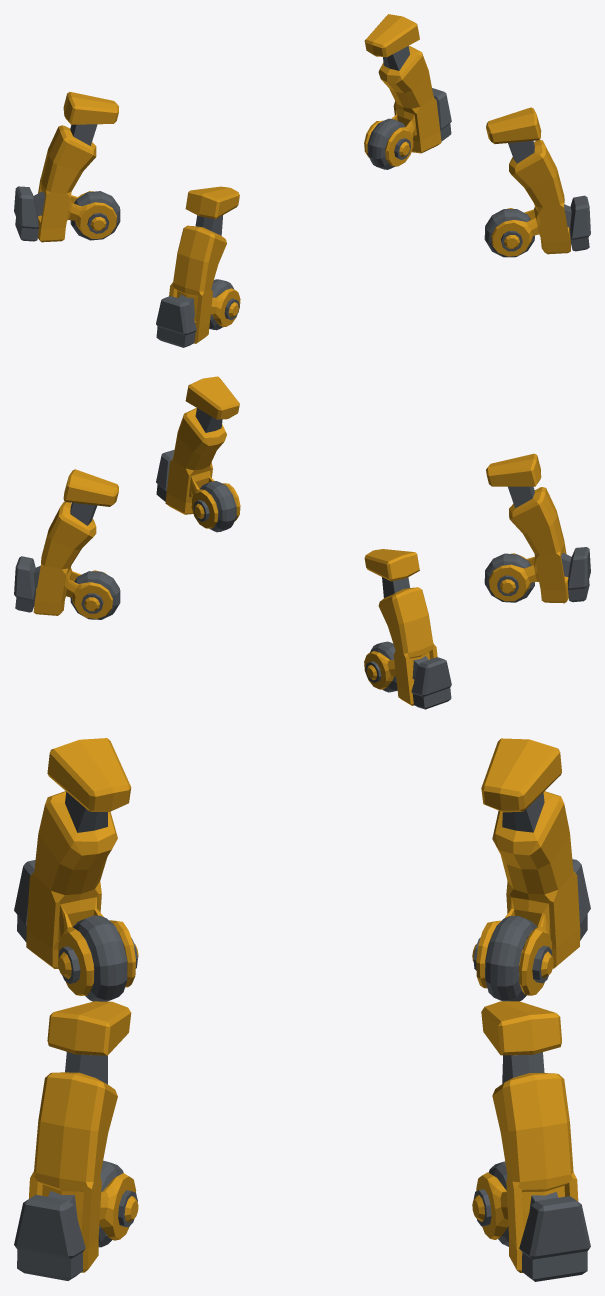
File: Dropship_01_Landers_Yellow.fbx
The picture shows the model from 3 angles, top to bottom: view 1: azimuth 30°, elevation 25°; view 2: azimuth 150°, elevation 25°; view 3: azimuth 270°, elevation 25°; orthographic projection. The views are drawn at different scales.
Visible parts, largest first — view 1: Dropship_01_Landers_Yellow; view 2: Dropship_01_Landers_Yellow; view 3: Dropship_01_Landers_Yellow.
Part boxes in pixels (x1=…): Dropship_01_Landers_Yellow: x1=14, y1=14, x2=590, y2=347; Dropship_01_Landers_Yellow: x1=14, y1=376, x2=590, y2=709; Dropship_01_Landers_Yellow: x1=14, y1=738, x2=590, y2=1281.
Bounding box in the file's own units: 1275 × 402 × 864.
1 material, 1 textured.
